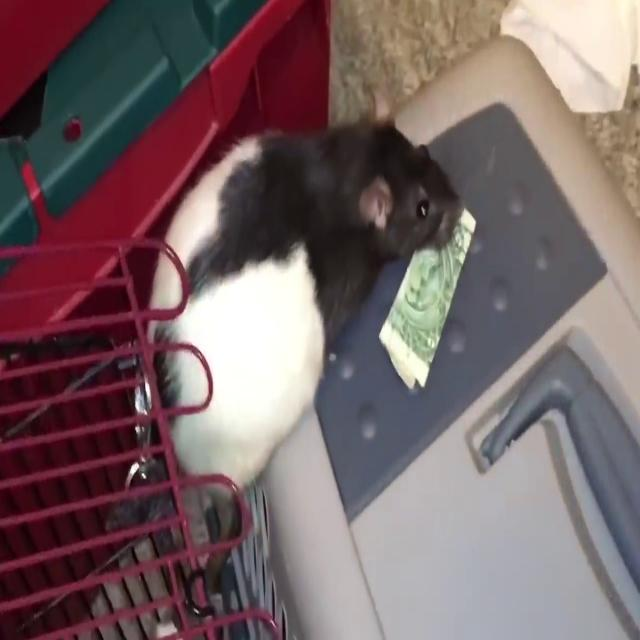rat: (145, 116, 462, 498)
